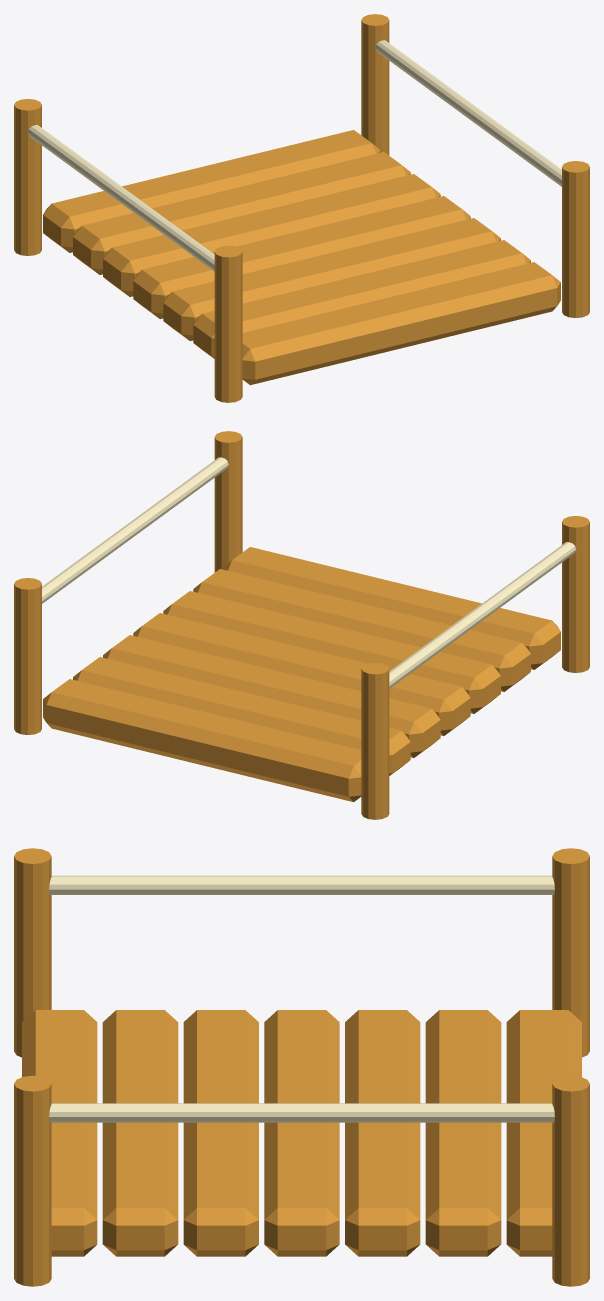
File: bridge_gold.glb
3 renders of one model, top to bottom at view 1: azimuth 30°, elevation 25°; view 2: azimuth 150°, elevation 25°; view 3: azimuth 270°, elevation 25°, orthographic. The views are drawn at different scales.
Parts seen in each view (by area): view 1: bridge_gold_Surface; view 2: bridge_gold_Surface; view 3: bridge_gold_Surface.
Part boxes in pixels (x1,y1,x2,y2): bridge_gold_Surface: (14,14,589,402); bridge_gold_Surface: (14,431,589,819); bridge_gold_Surface: (14,848,589,1286).
Bounding box in the file's own units: 1.07 × 0.4 × 1.07.
Materials: 1 (1 with a texture image).
